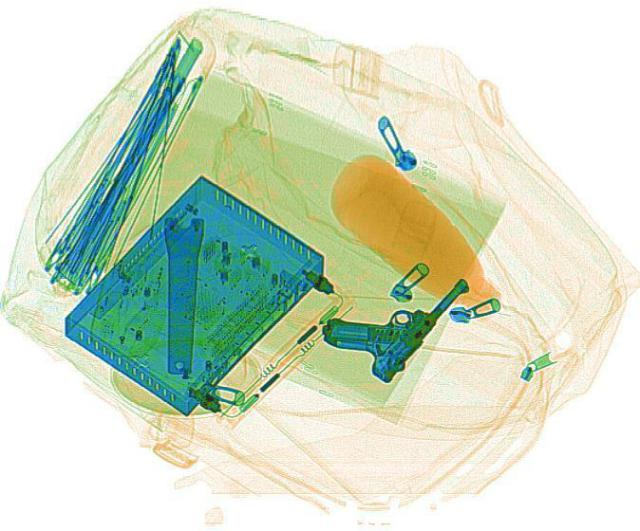Gun: (304, 240, 472, 383)
